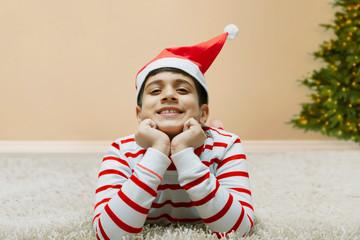Human: (90, 55, 255, 240)
